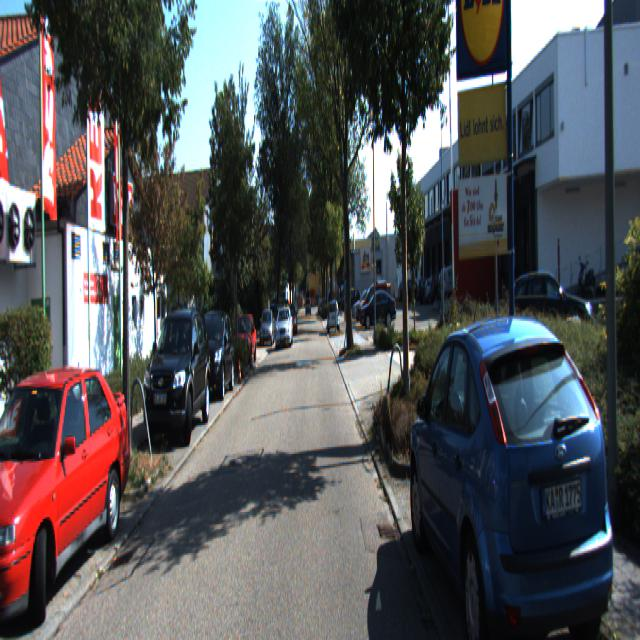Car: (410, 302, 636, 638), (0, 356, 131, 639), (143, 306, 213, 452), (192, 308, 236, 402), (440, 260, 477, 306), (231, 312, 258, 369), (359, 287, 397, 326), (274, 306, 293, 349), (327, 298, 340, 334)
